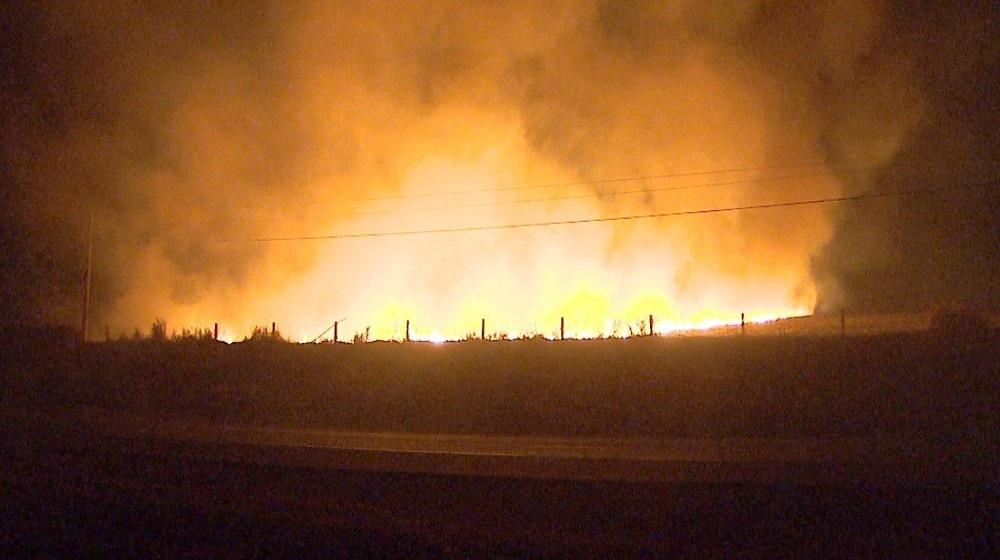fire: (346, 246, 704, 336)
